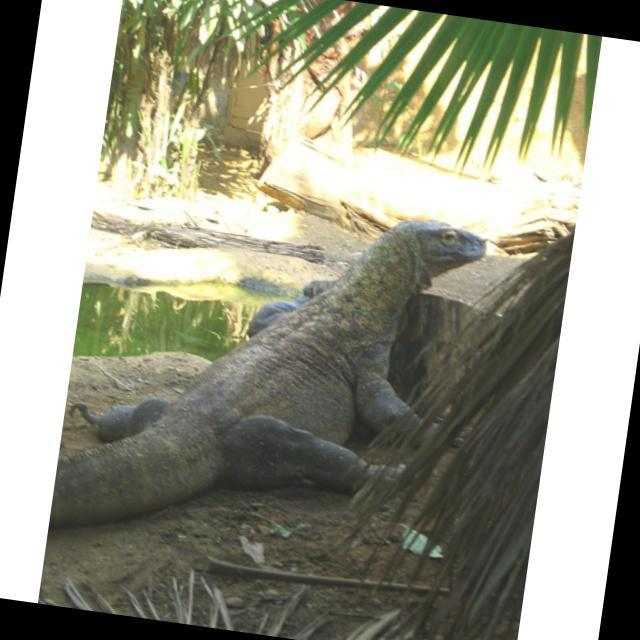KomodoDragon: (49, 168, 488, 582)
